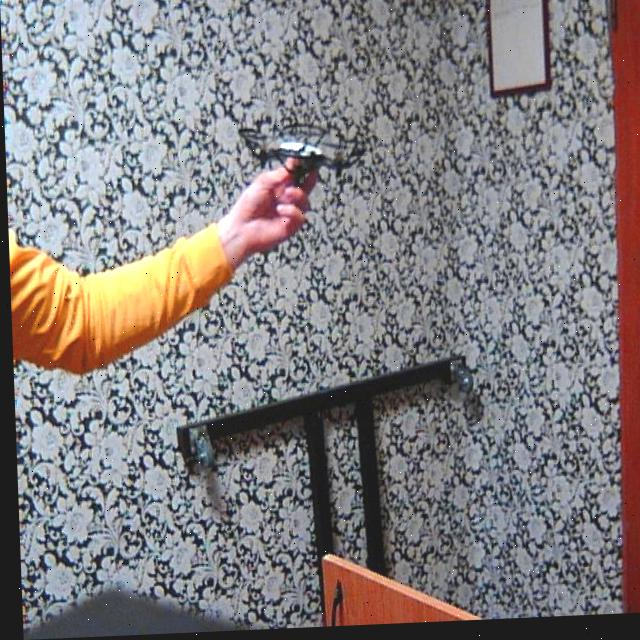drone: (232, 111, 368, 188)
